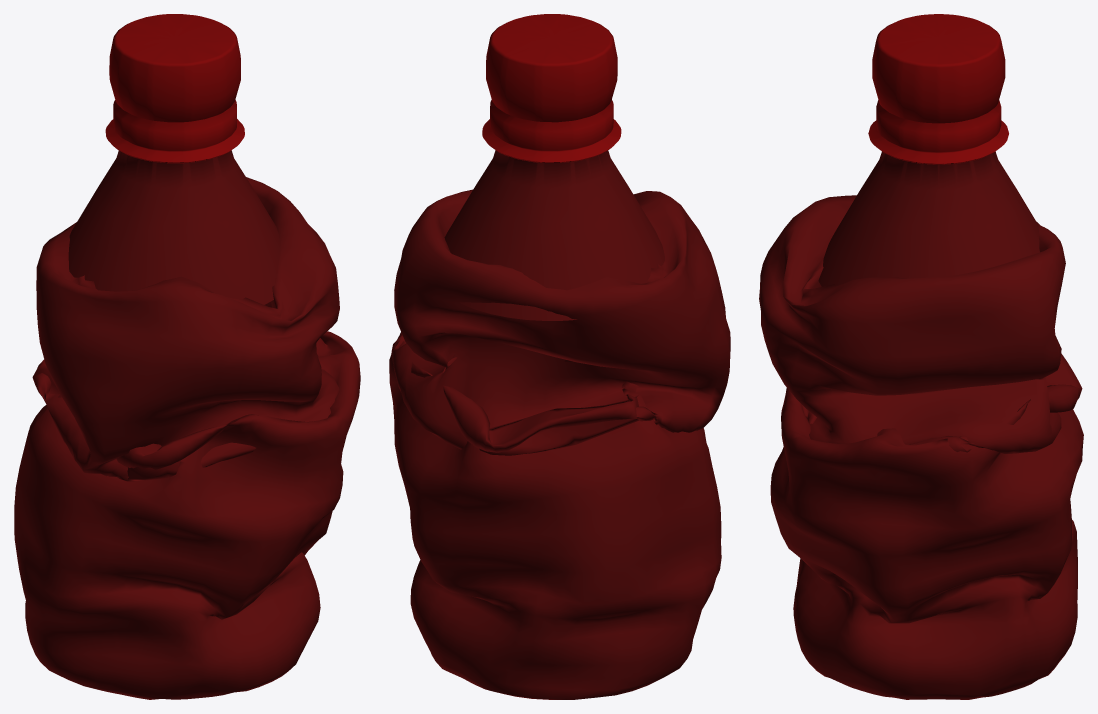
Rendered from water.glb.
3 renders of one model, left to right at view 1: azimuth 30°, elevation 25°; view 2: azimuth 150°, elevation 25°; view 3: azimuth 270°, elevation 25°, orthographic.
Parts seen in each view (by area): view 1: mesh_id6, mesh_id5; view 2: mesh_id6, mesh_id5; view 3: mesh_id6, mesh_id5.
Part boxes in pixels (x1,y1,x2,y2): mesh_id6: (14,150,360,699); mesh_id5: (105,14,244,163); mesh_id6: (389,150,730,699); mesh_id5: (482,14,621,162); mesh_id6: (759,151,1083,699); mesh_id5: (868,14,1008,164).
Size of the model in its own units: 0.2714 by 0.512 by 0.2465.
2 materials, 2 textured.
